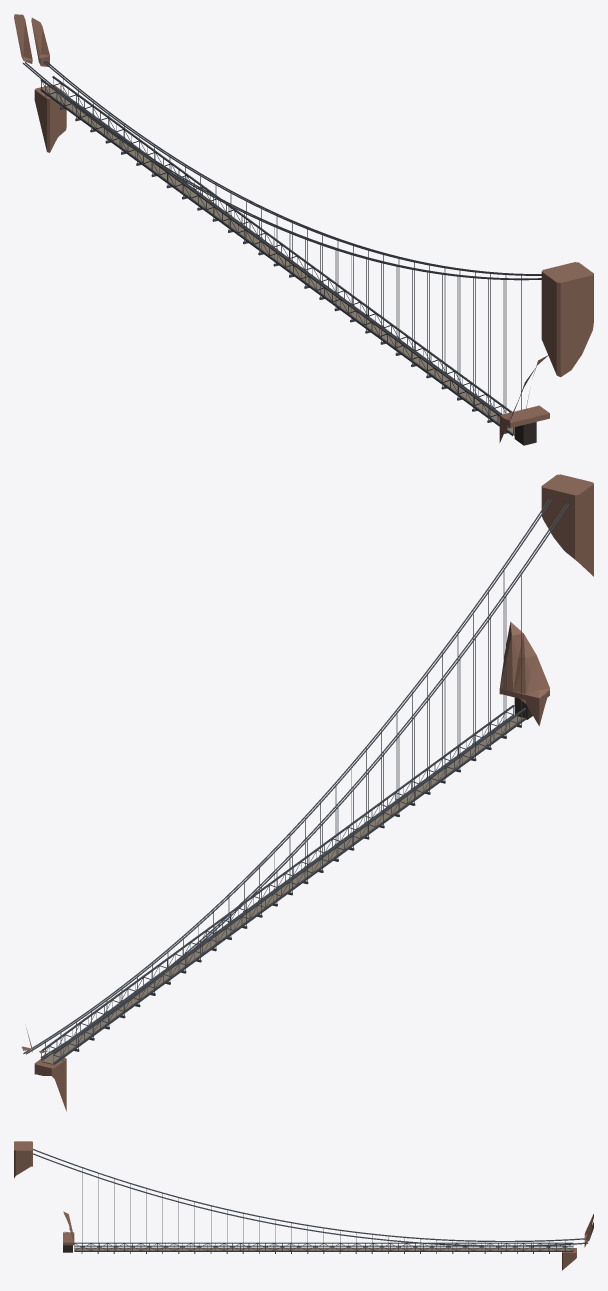
File: grand-canyon-kaibab-suspension-bridge.detail.glb
3 views of the same model, one above another, from view 1: azimuth 30°, elevation 25°; view 2: azimuth 150°, elevation 25°; view 3: azimuth 270°, elevation 25° (orthographic). The views are drawn at different scales.
Visible parts, largest first — view 1: Kaibab Suspension Bridge; view 2: Kaibab Suspension Bridge; view 3: Kaibab Suspension Bridge.
Boxes of the visible parts, x1,y1,x2,y2 form: Kaibab Suspension Bridge: (14, 14, 593, 445); Kaibab Suspension Bridge: (21, 474, 593, 1111); Kaibab Suspension Bridge: (14, 1141, 593, 1270).
Bounding box in the file's own units: 6.4 × 38.82 × 154.
